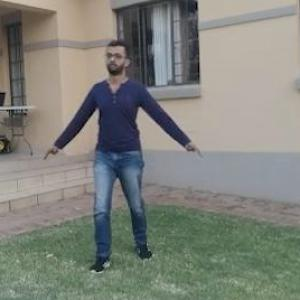land: (54, 47, 196, 255)
